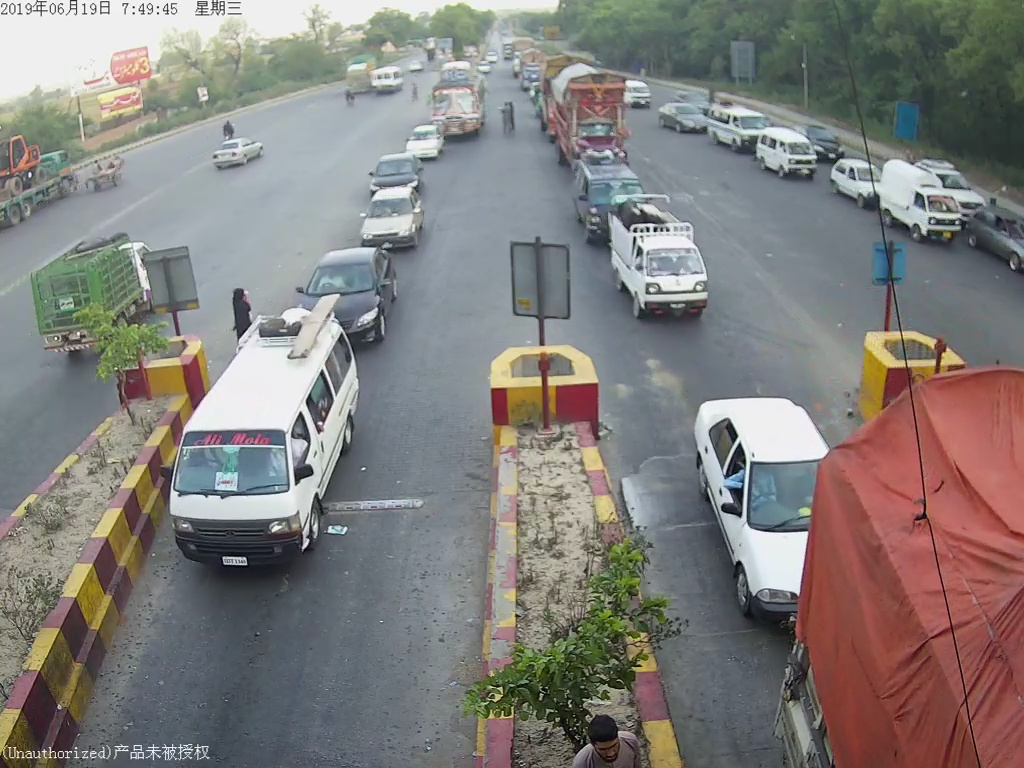Cat-1: (689, 394, 853, 622), (291, 237, 405, 349), (605, 197, 708, 319), (351, 183, 424, 251), (362, 148, 423, 193)
Cat-2: (171, 308, 354, 563), (560, 151, 637, 241)
Cat-3: (423, 58, 490, 139)
